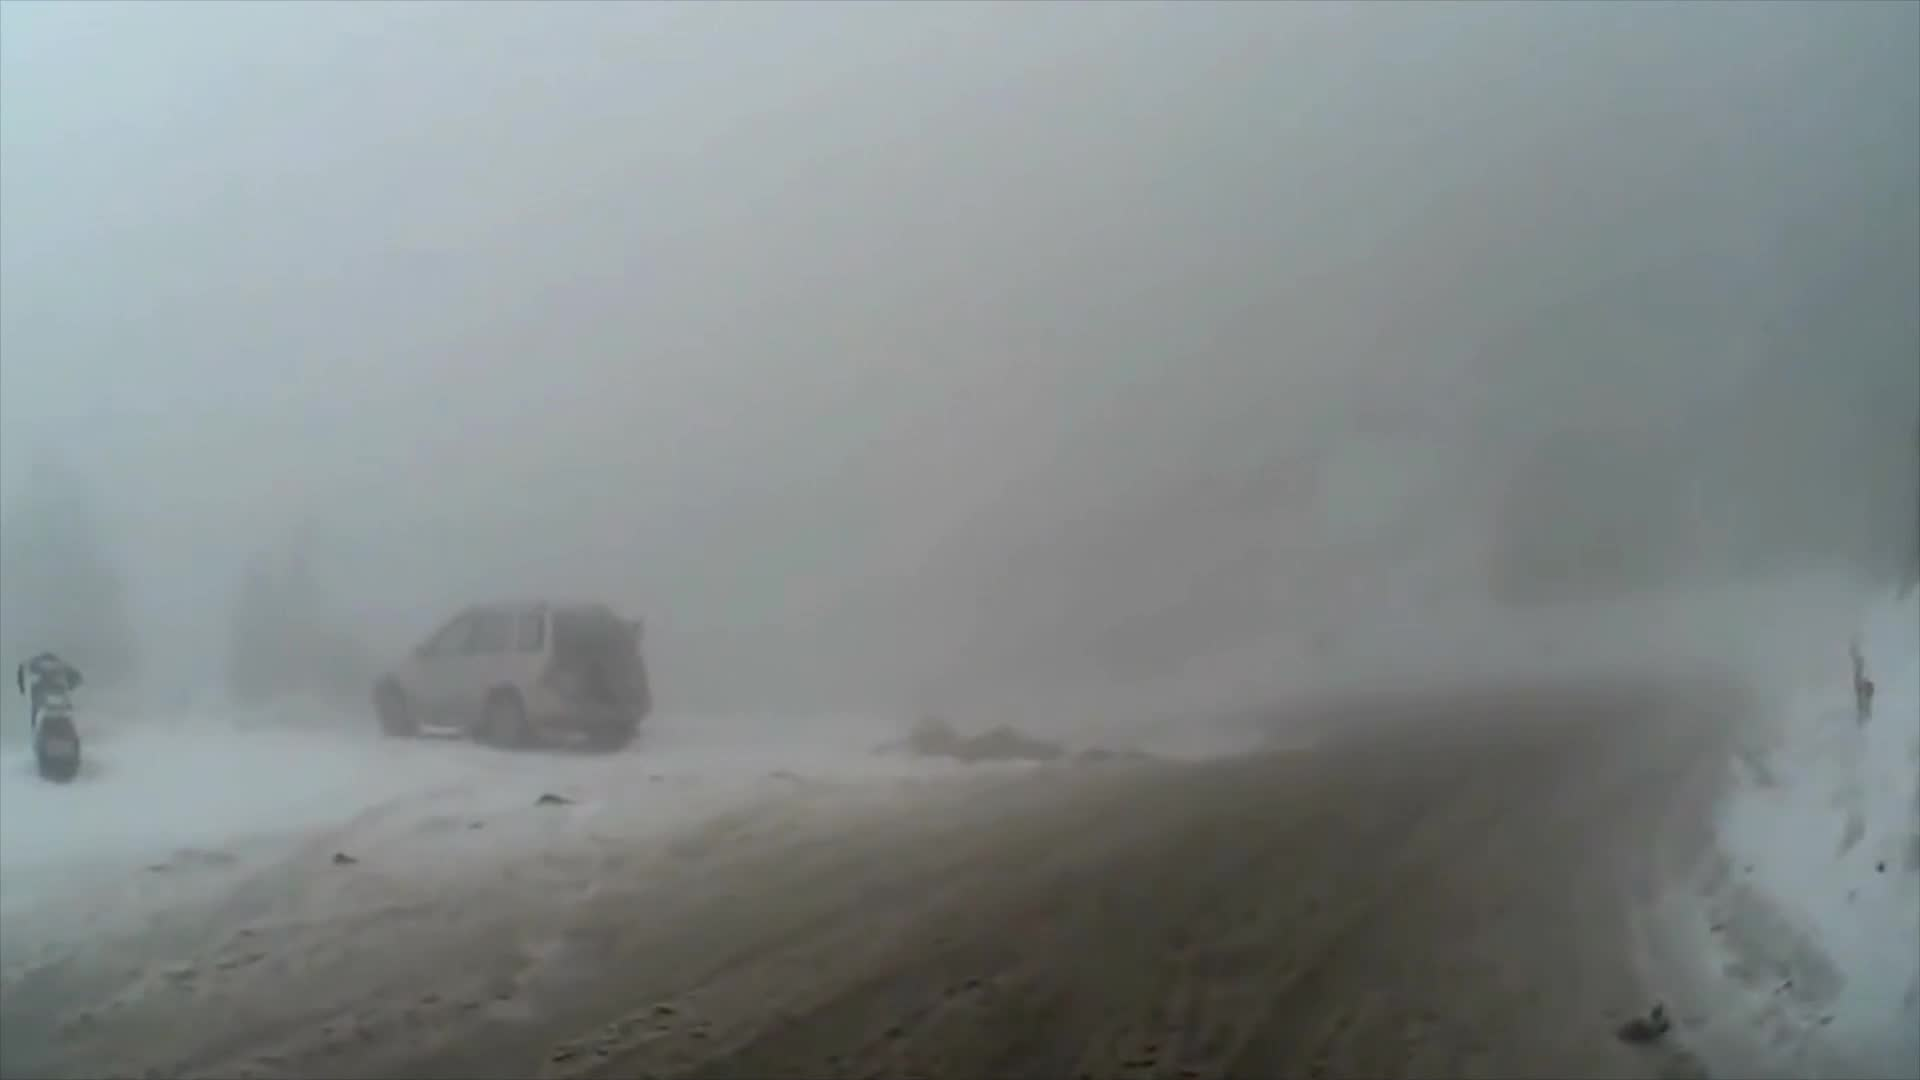vehicle: (365, 593, 649, 760)
